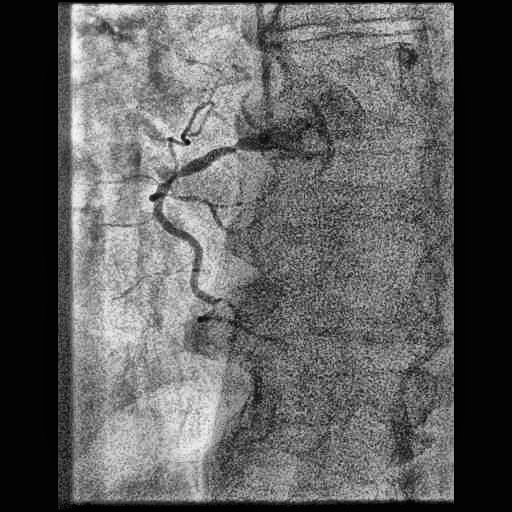pda: (199, 301, 265, 338)
rca: (151, 136, 257, 303)
